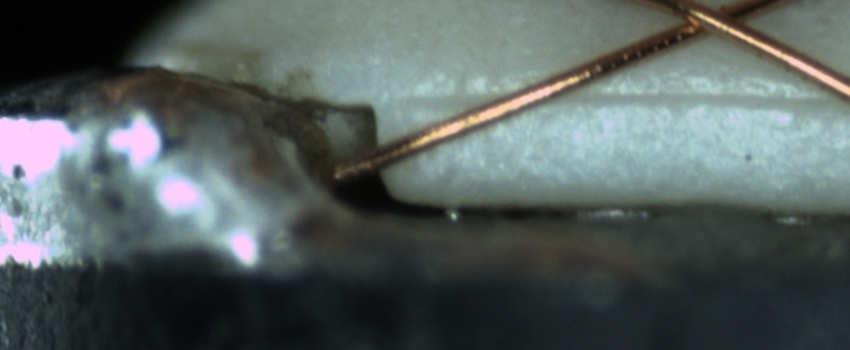CL: (655, 2, 772, 45)
DL: (390, 69, 850, 131)
